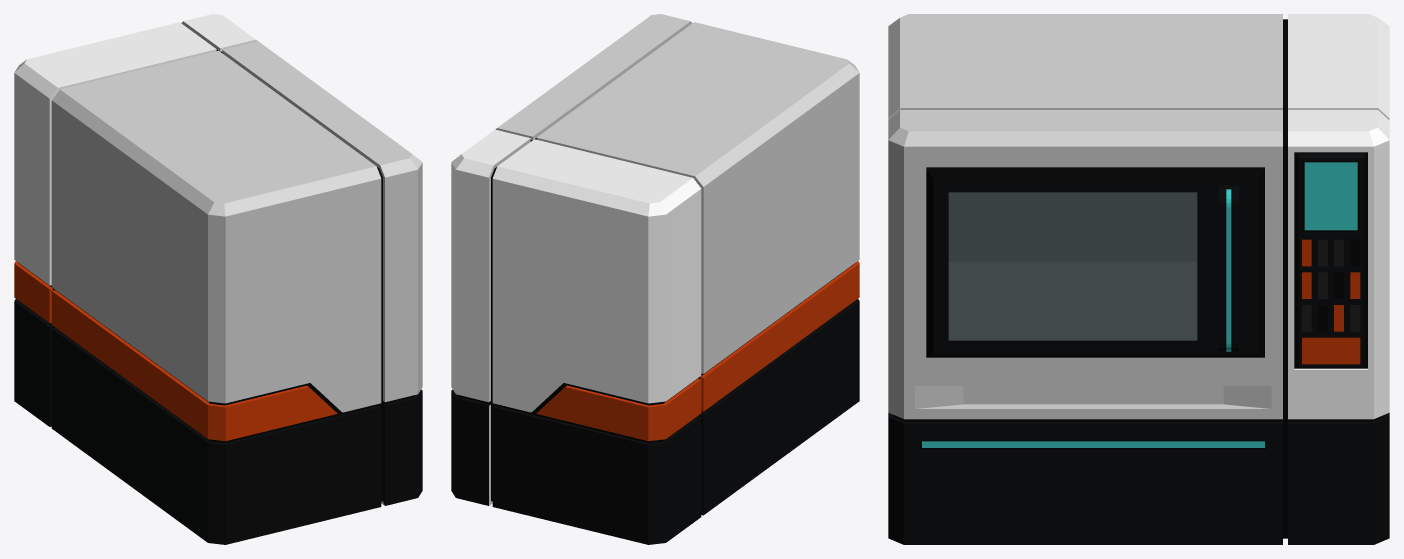
File: SM_Microwave.obj
3 renders of one model, left to right at view 1: azimuth 30°, elevation 25°; view 2: azimuth 150°, elevation 25°; view 3: azimuth 270°, elevation 25°, orthographic. The views are drawn at different scales.
Parts seen in each view (by area): view 1: SM_Microwave; view 2: SM_Microwave; view 3: SM_Microwave.
Part boxes in pixels (box(x1,y1,x2,y2)): SM_Microwave: box(14, 14, 422, 544); SM_Microwave: box(451, 14, 859, 544); SM_Microwave: box(888, 14, 1389, 544).
Size of the model in its own units: 0.3343 by 0.45 by 0.5.
